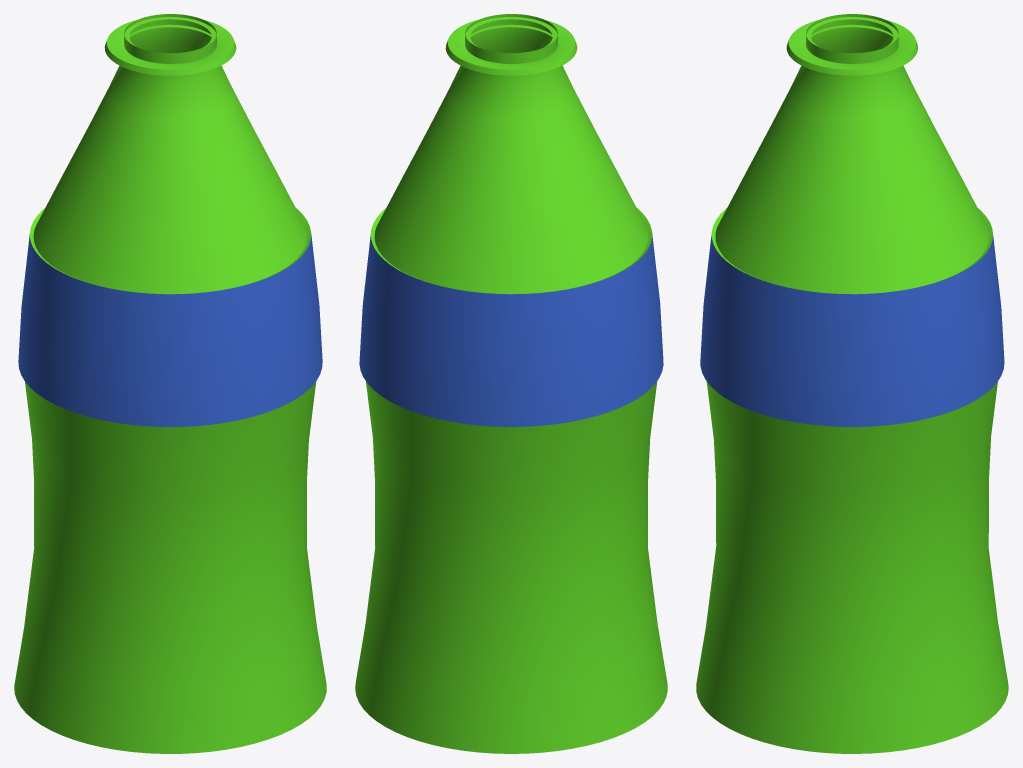
Rendered from Coke_Bottle_03.fbx.
3 renders of one model, left to right at view 1: azimuth 30°, elevation 25°; view 2: azimuth 150°, elevation 25°; view 3: azimuth 270°, elevation 25°, orthographic.
Visible parts, largest first — view 1: Cylinder.001; view 2: Cylinder.001; view 3: Cylinder.001.
Boxes of the visible parts, x1,y1,x2,y2 form: Cylinder.001: [14, 14, 326, 753]; Cylinder.001: [355, 14, 667, 753]; Cylinder.001: [696, 14, 1008, 753].
Bounding box in the file's own units: 184 × 424 × 184.
